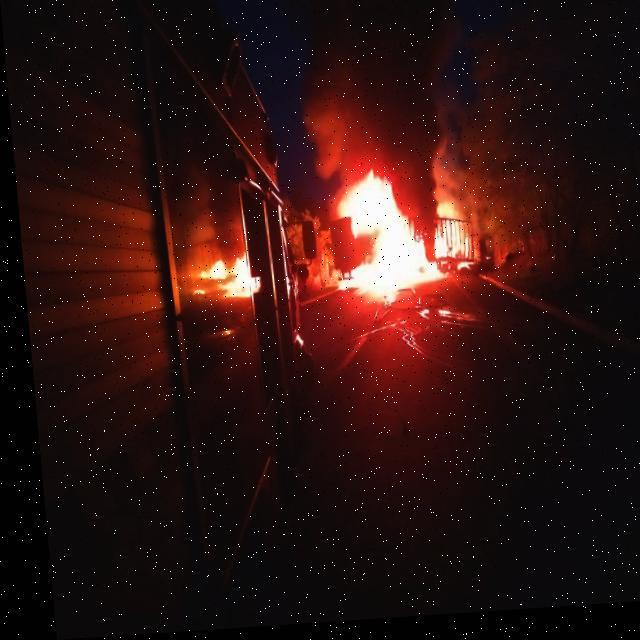Fire: (319, 173, 459, 304)
